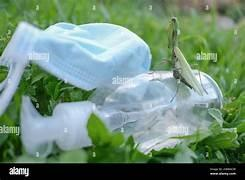Mask: (21, 72, 222, 154), (0, 22, 150, 114)
